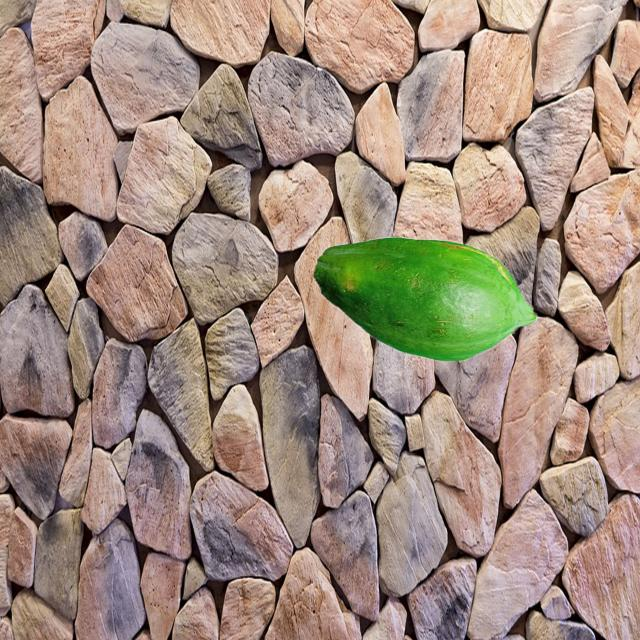Pepaya unrippen: (308, 237, 540, 361)
